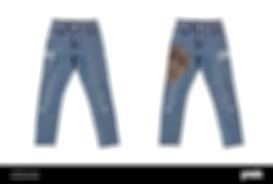earth: (168, 53, 187, 79)
